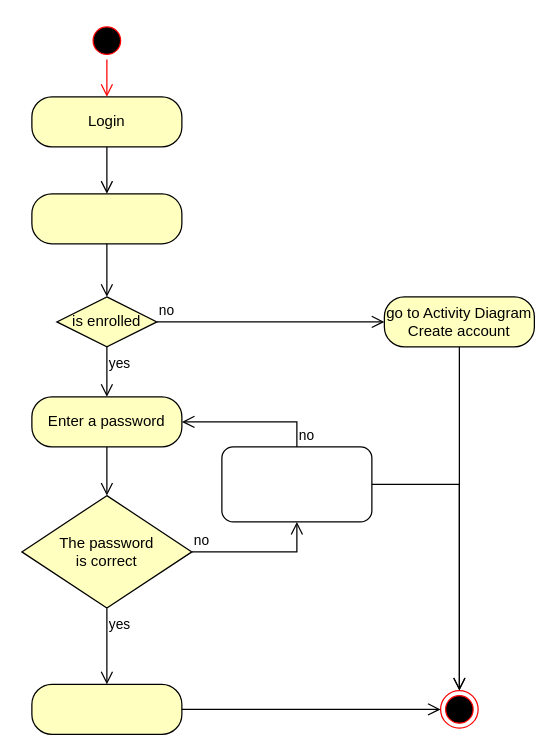
This 556x756 diagram has some shape labels left out. Each missing label, with the centre of its shape:
after 3 tries: the point at 296,484
enter an email: the point at 106,218
Log in as an amazon user: the point at 106,708
